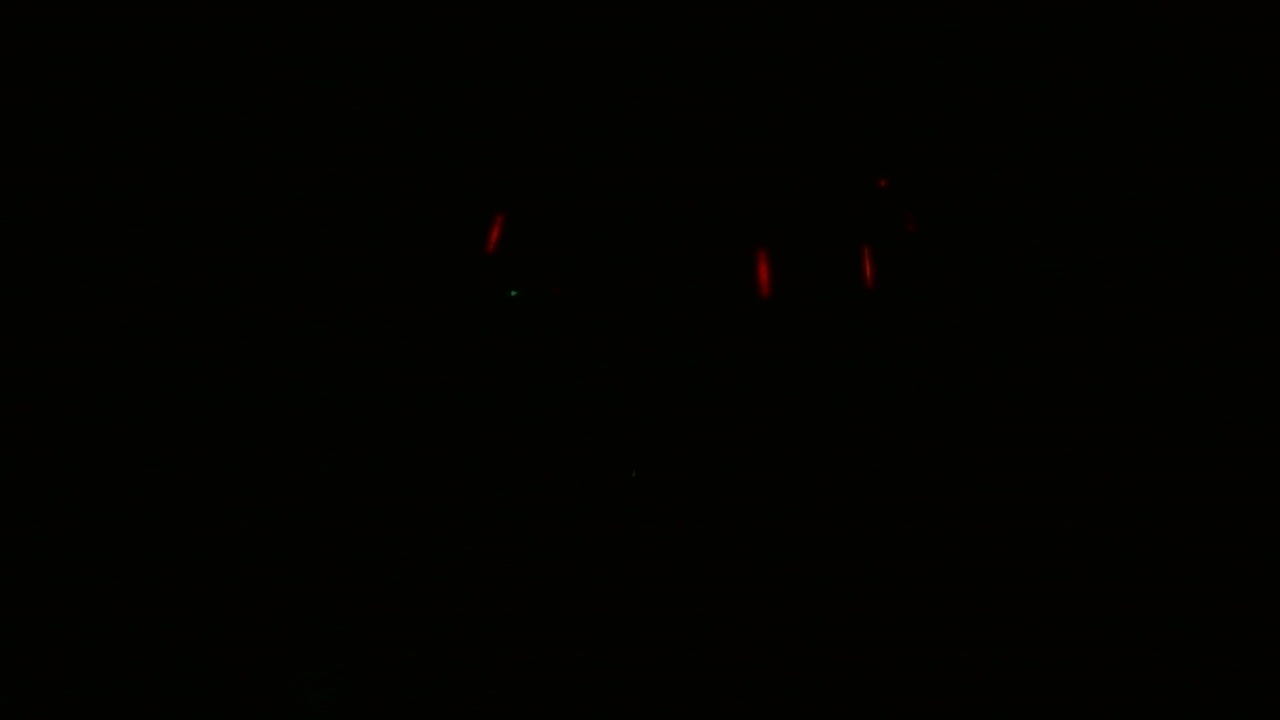pair1: (749, 238, 880, 297)
